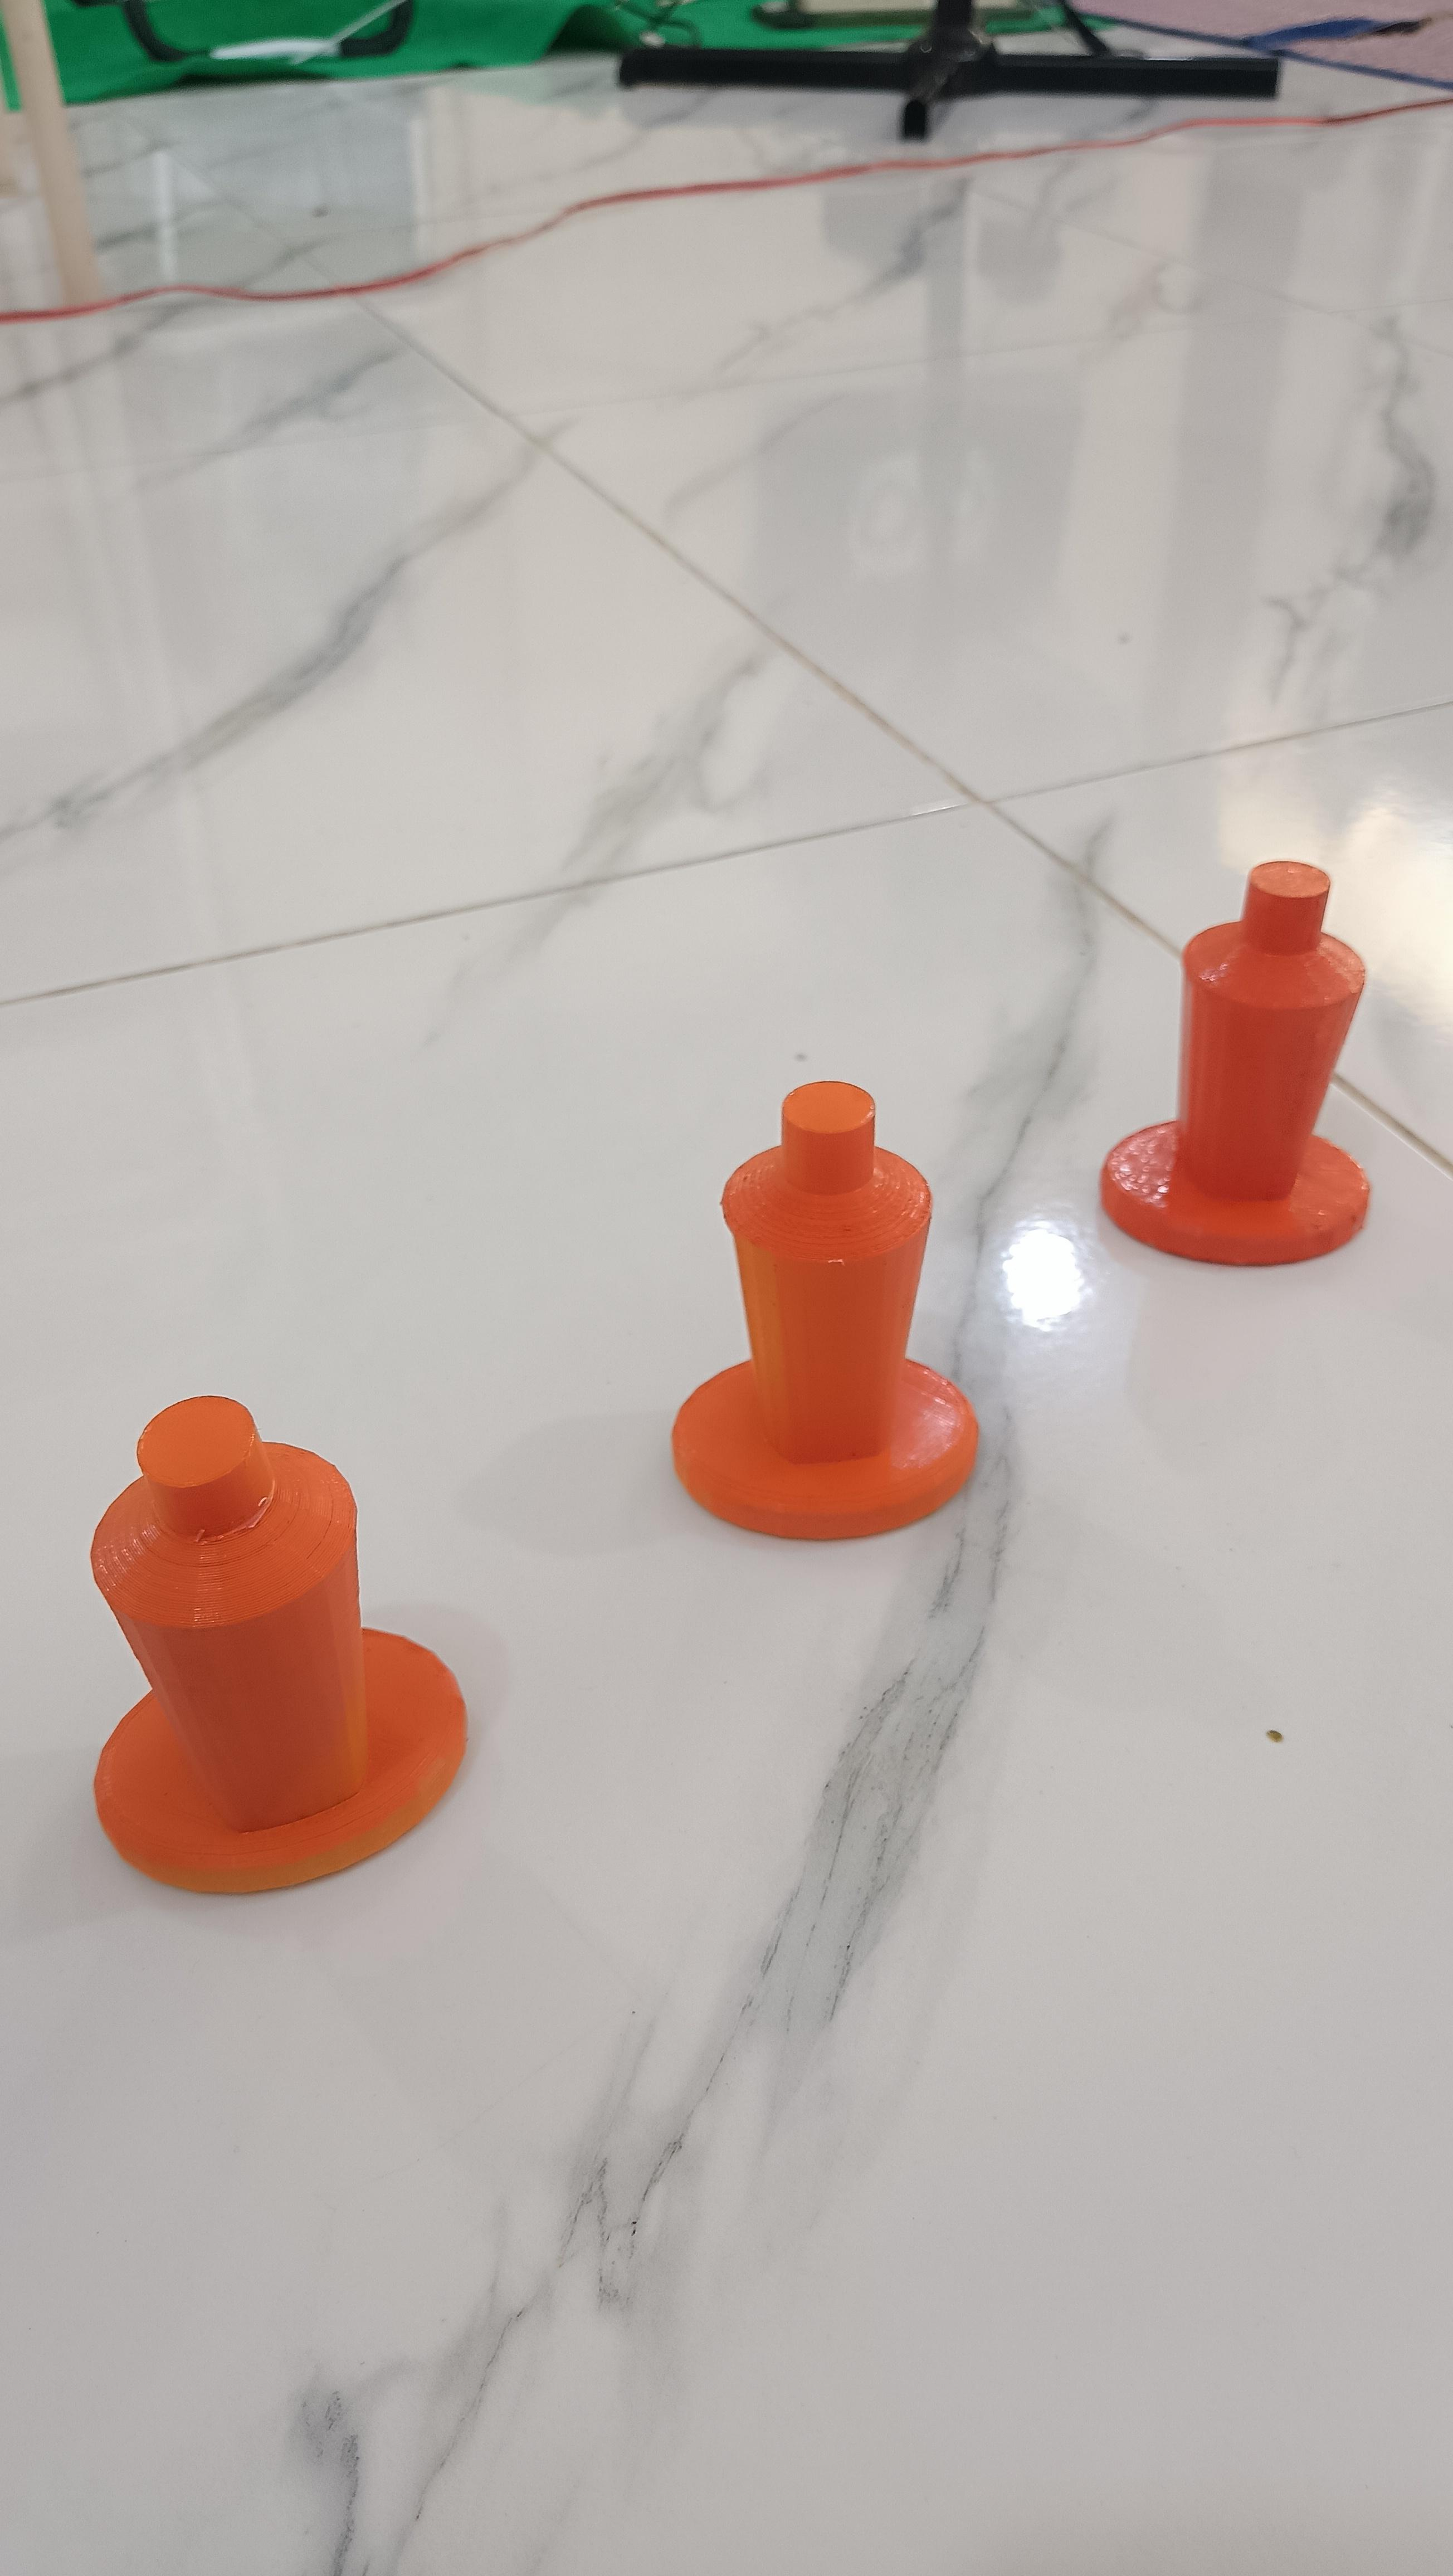dummy: (62, 1357, 496, 1941), (1053, 809, 1435, 1313), (651, 1053, 1007, 1587)
